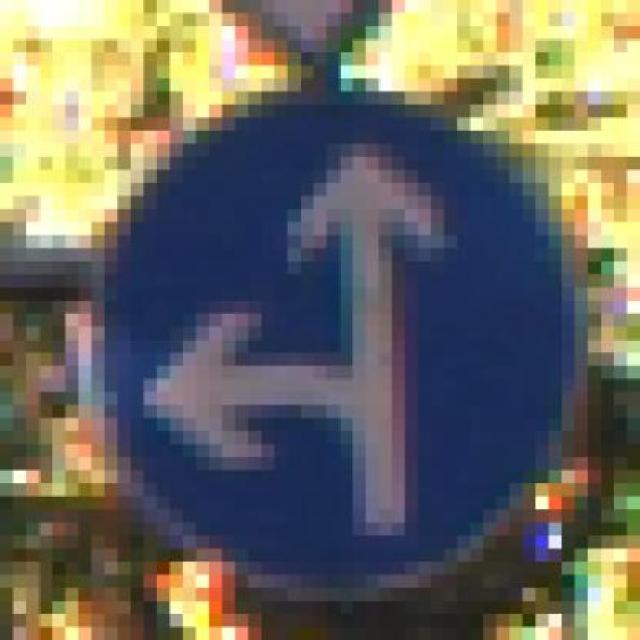Go straight or turn left: (65, 78, 588, 600)
